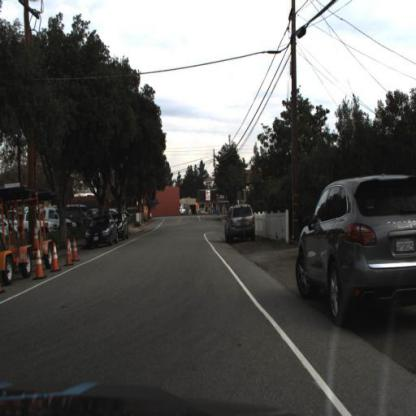car: (294, 173, 416, 328), (224, 204, 258, 246), (14, 211, 60, 242), (84, 212, 119, 252), (37, 208, 75, 242), (223, 205, 255, 242), (87, 219, 119, 248), (105, 211, 130, 244), (116, 216, 129, 239)
truck: (1, 189, 61, 287)
